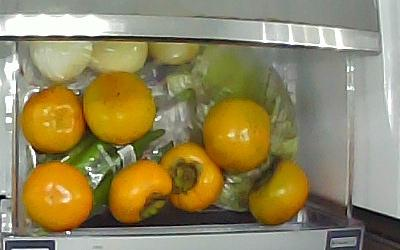persimmon: (80, 73, 157, 146), (202, 98, 273, 172), (22, 162, 93, 233), (20, 86, 85, 154), (160, 144, 223, 213), (246, 159, 309, 225), (108, 161, 172, 223)
